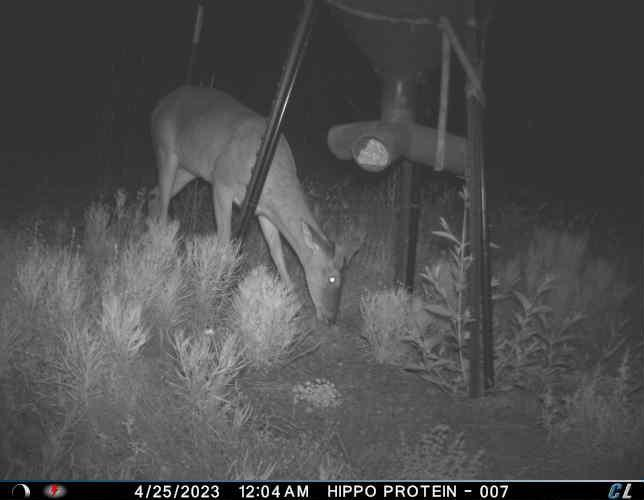Deer: (146, 79, 370, 330)
